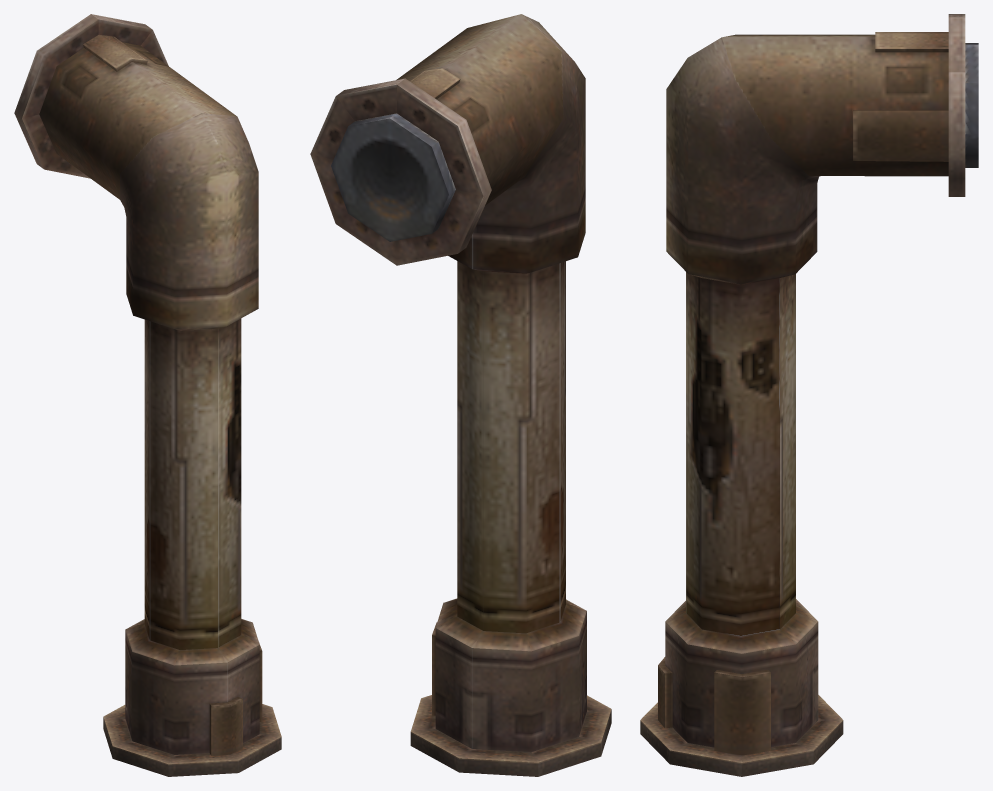
Rendered from yw_leinabao_guandao01.FBX.
The picture shows the model from 3 angles, left to right: view 1: azimuth 30°, elevation 25°; view 2: azimuth 150°, elevation 25°; view 3: azimuth 270°, elevation 25°; orthographic projection. The views are drawn at different scales.
Parts seen in each view (by area): view 1: yw_leinabao_guandao01; view 2: yw_leinabao_guandao01; view 3: yw_leinabao_guandao01.
Part boxes in pixels (x1,y1,x2,y2): yw_leinabao_guandao01: [14, 14, 281, 776]; yw_leinabao_guandao01: [310, 14, 611, 776]; yw_leinabao_guandao01: [640, 14, 978, 776].
Bounding box in the file's own units: 316 × 1228 × 526.
